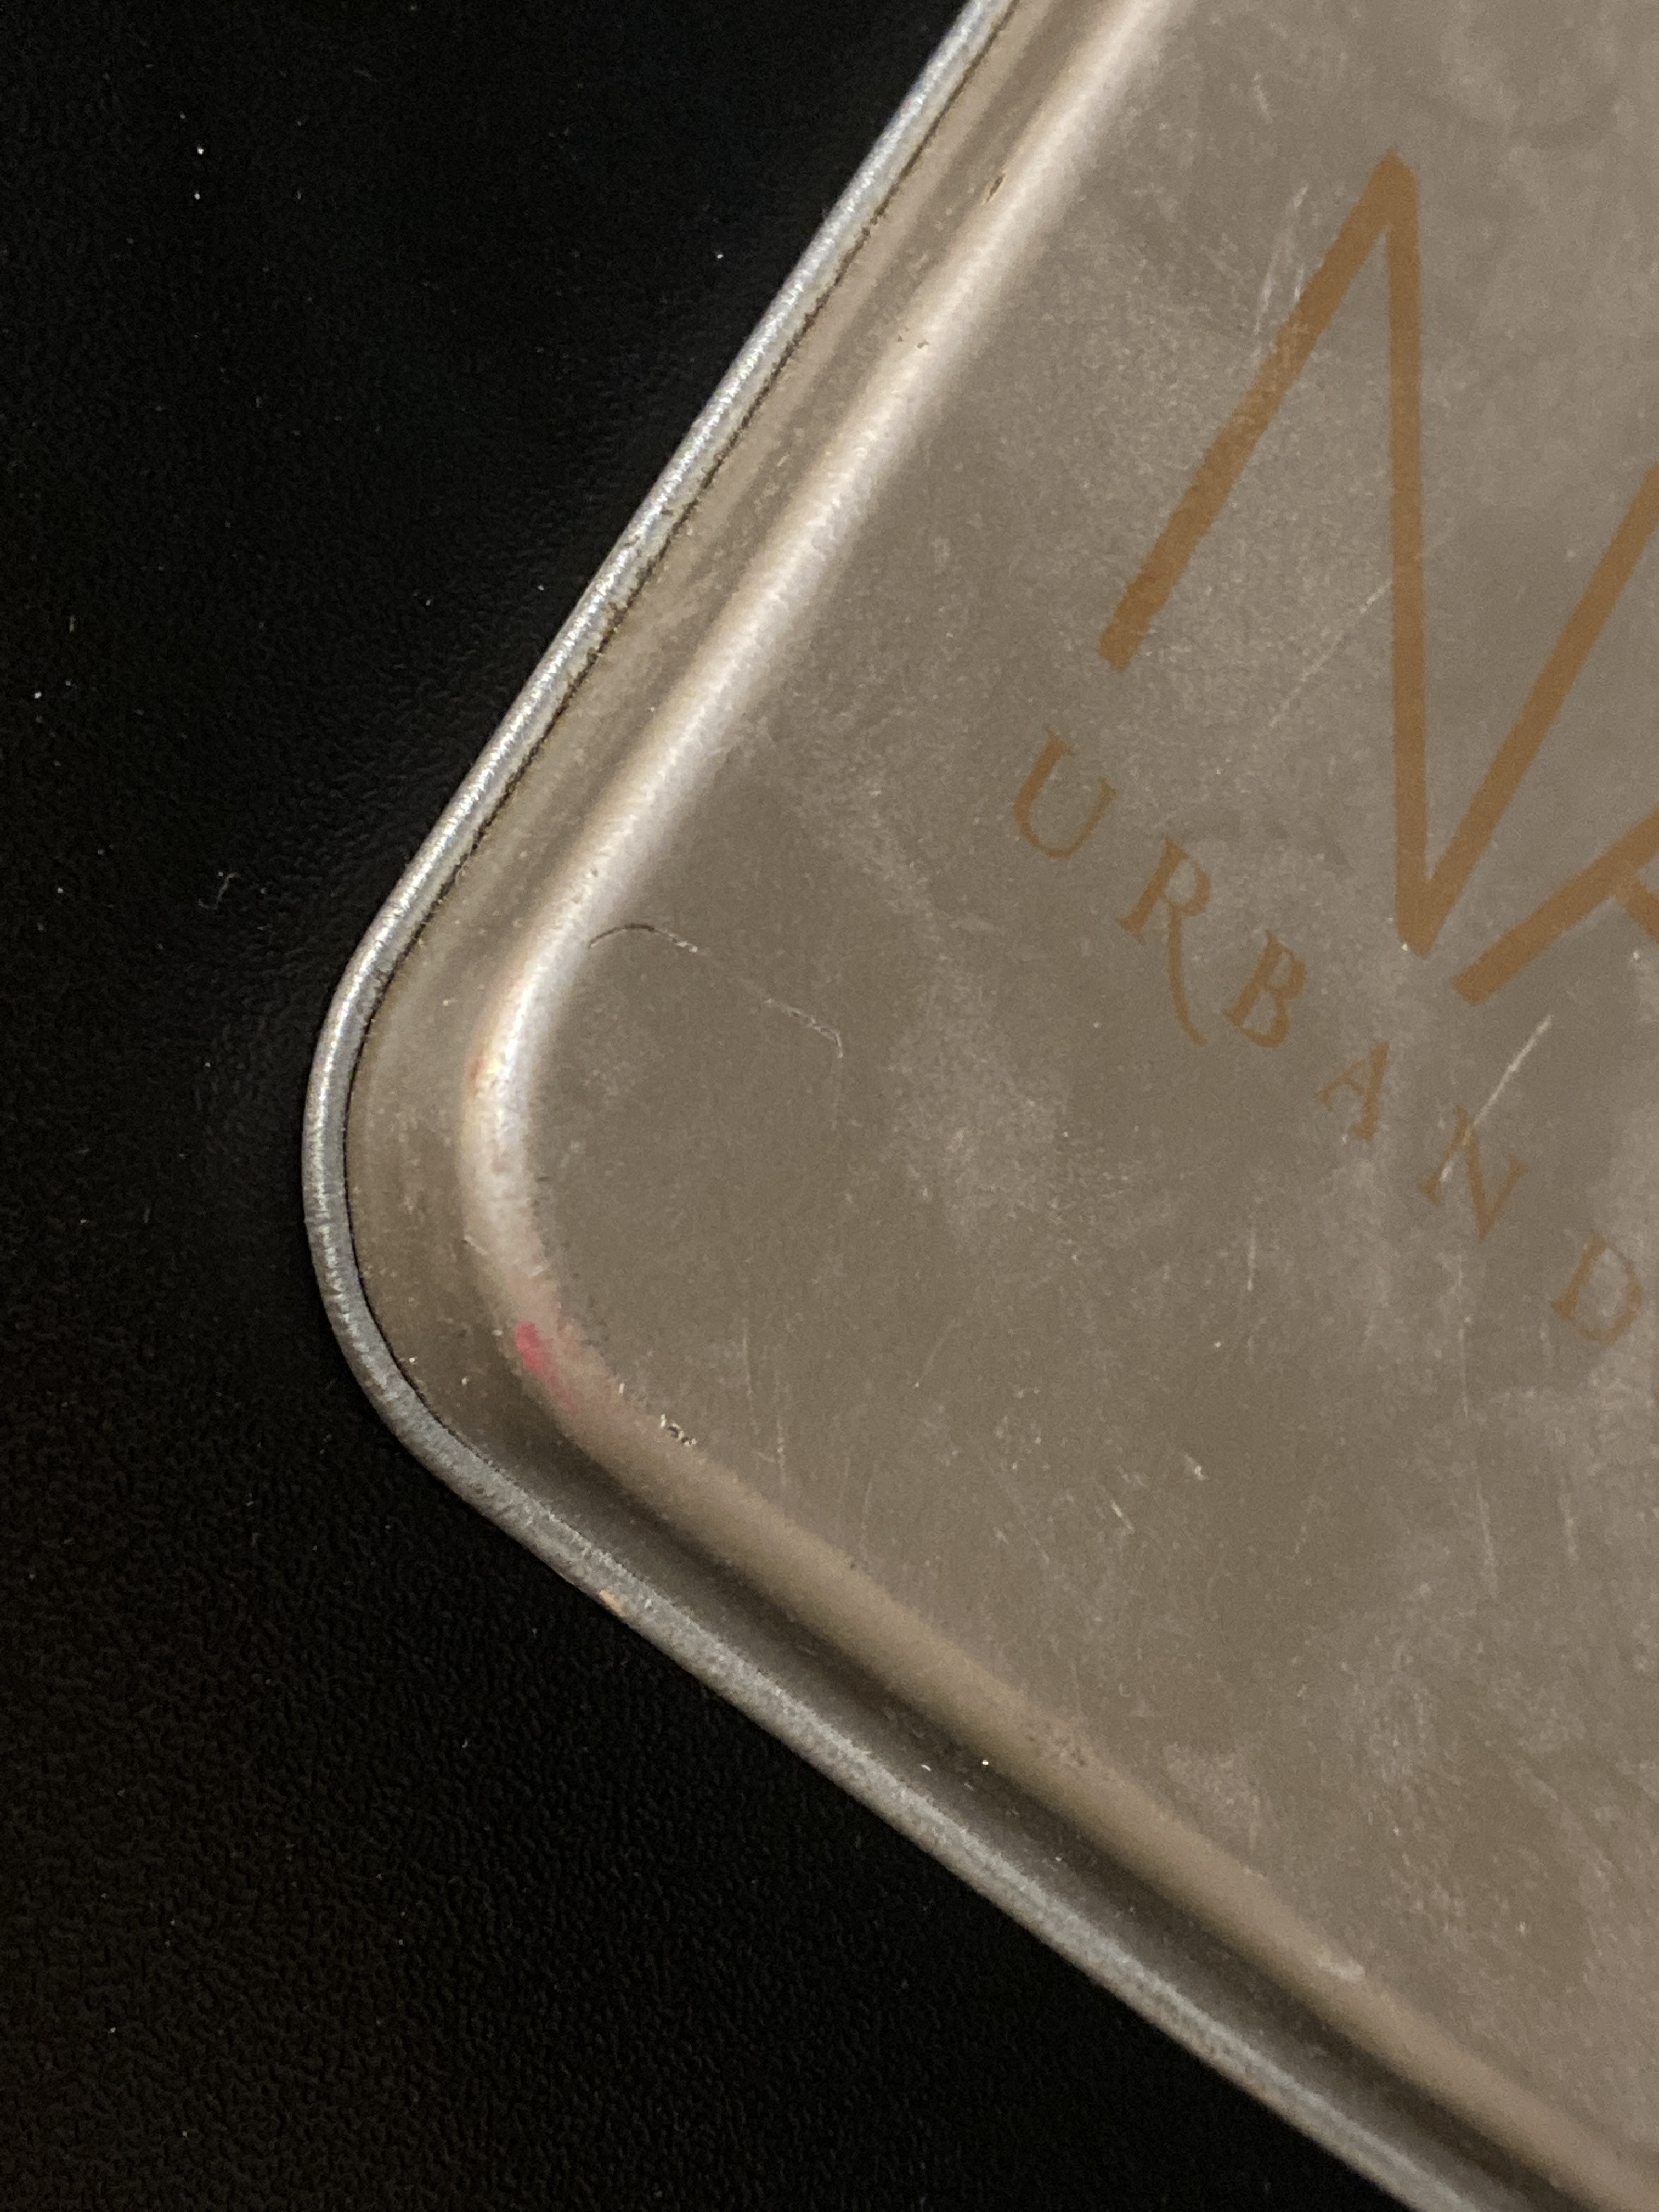metal: (279, 28, 1659, 2212)
